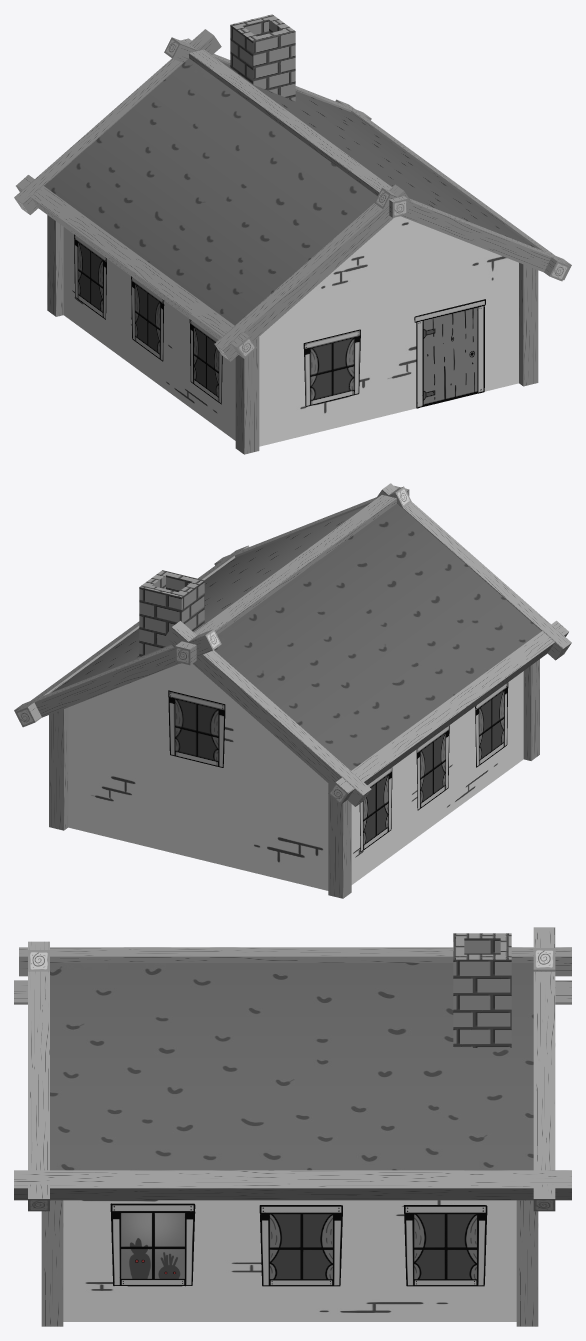
File: Asset_Building_01.fbx
The picture shows the model from 3 angles, top to bottom: view 1: azimuth 30°, elevation 25°; view 2: azimuth 150°, elevation 25°; view 3: azimuth 270°, elevation 25°; orthographic projection. The views are drawn at different scales.
Visible parts, largest first — view 1: Building_One_Seperate1_Complete; view 2: Building_One_Seperate1_Complete; view 3: Building_One_Seperate1_Complete.
Boxes of the visible parts, x1,y1,x2,y2 form: Building_One_Seperate1_Complete: [14, 14, 571, 454]; Building_One_Seperate1_Complete: [14, 483, 571, 898]; Building_One_Seperate1_Complete: [14, 927, 571, 1326].
Size of the model in its own units: 579 by 635 by 410.
